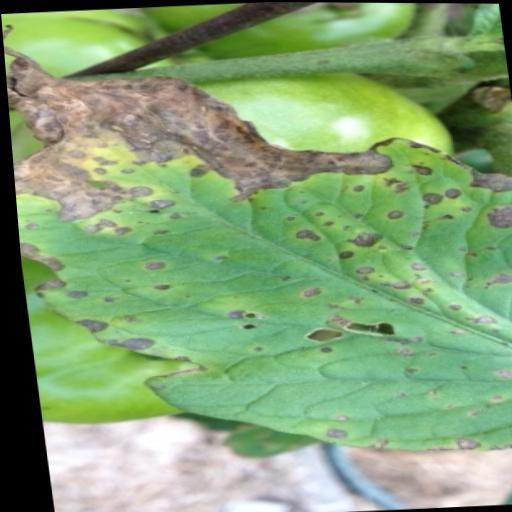Septoria: (0, 2, 512, 469)
